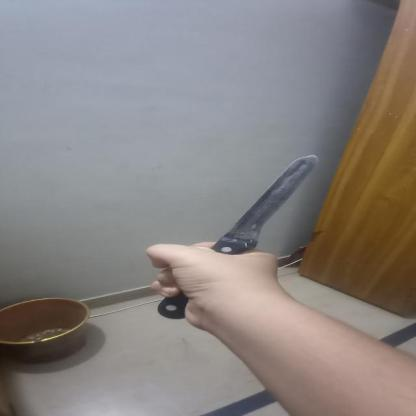Knife: (153, 153, 323, 316)
